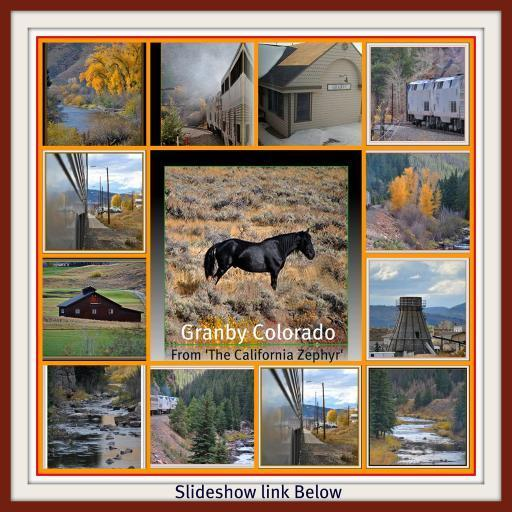horse: (204, 226, 316, 290)
